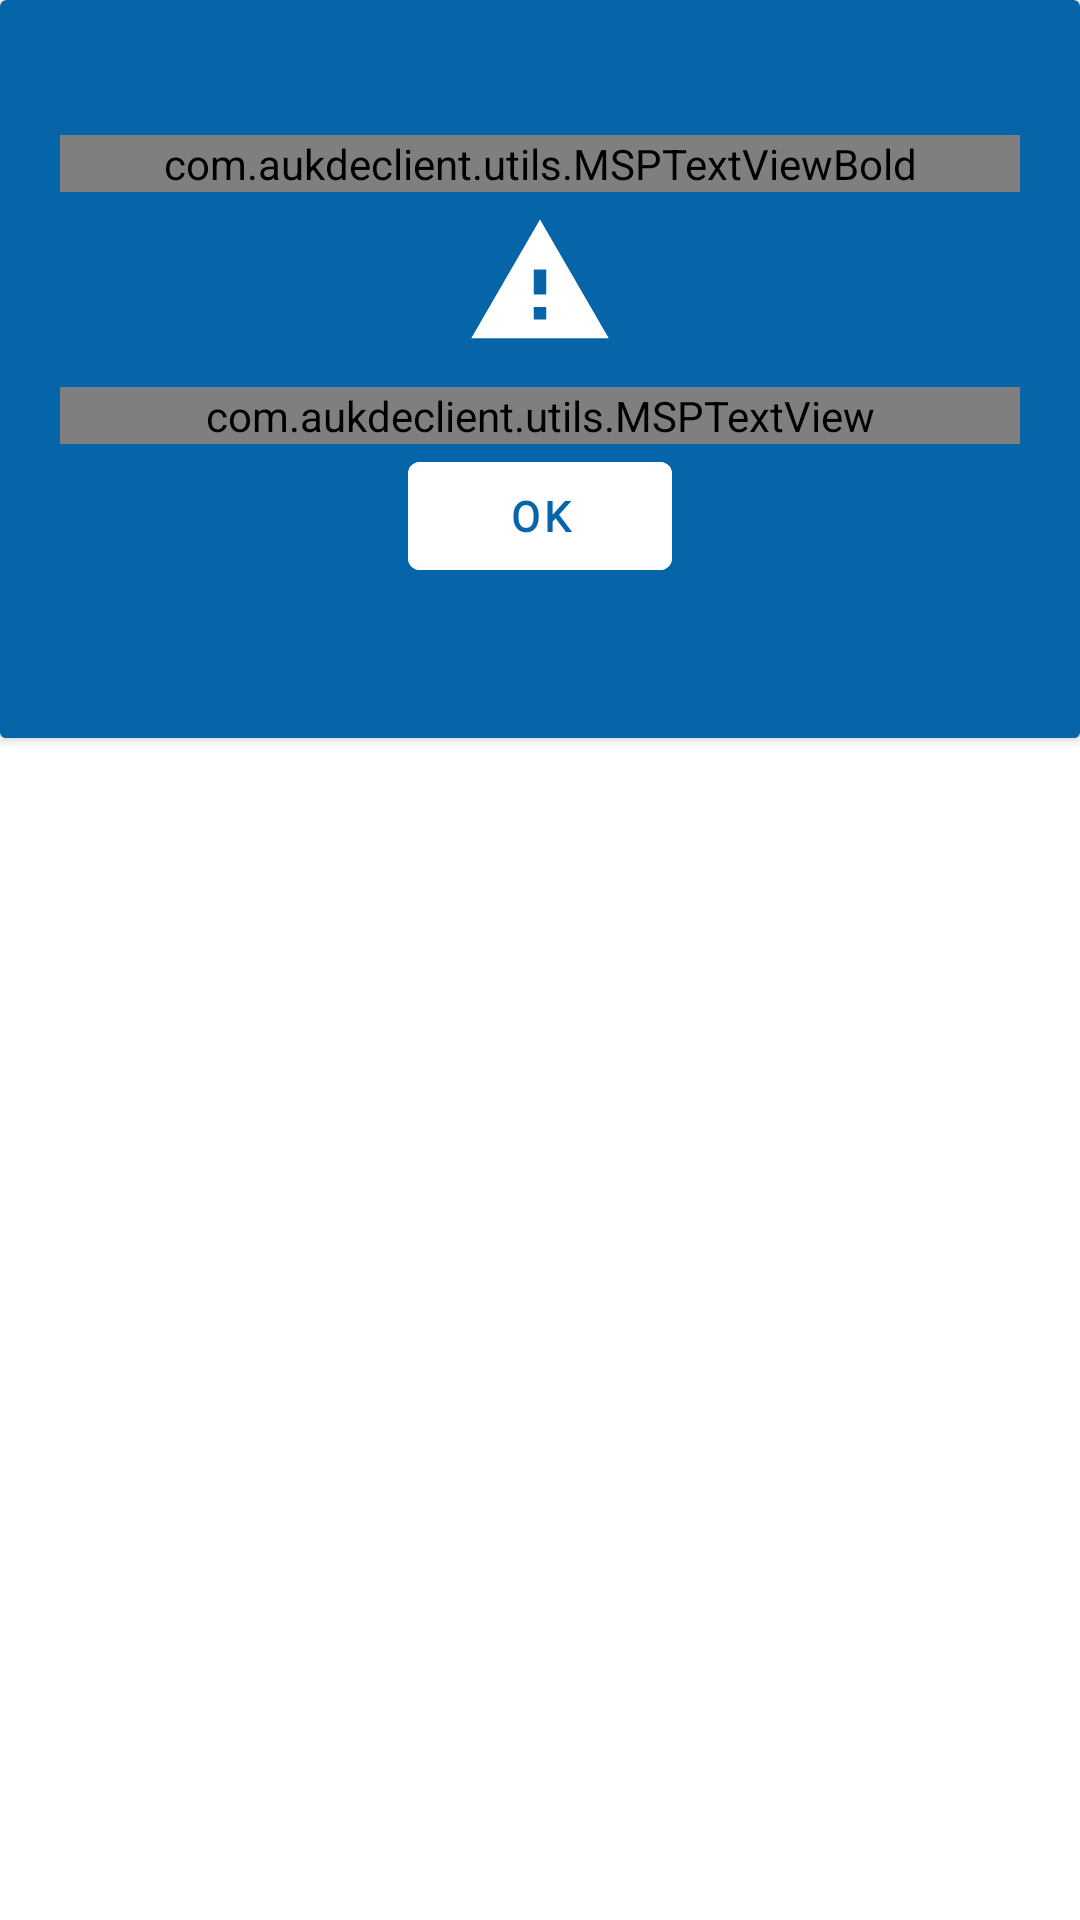

Where to tap for icons on this 1080 x 1920 app screen, as (x,y):
warning: (540,279)
